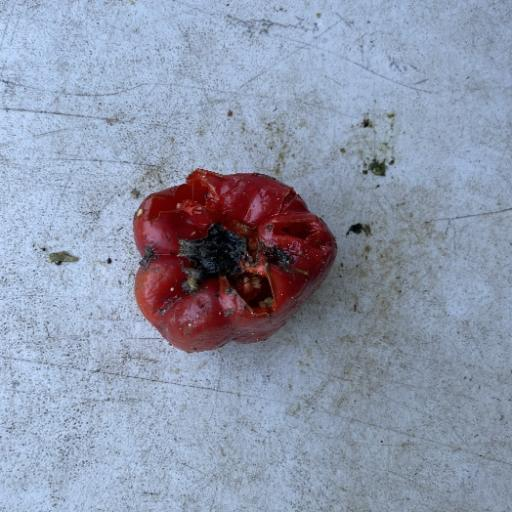Waste: (130, 167, 338, 354)
